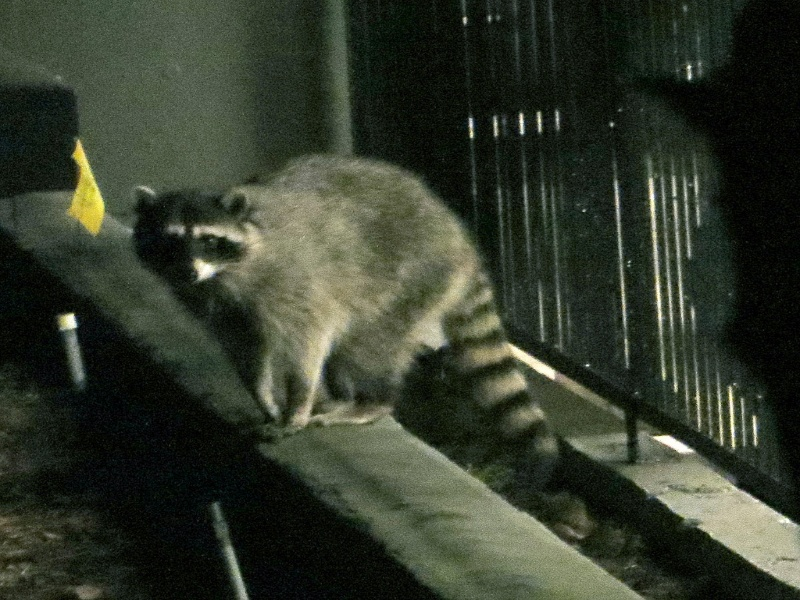raccoon: (132, 154, 575, 492)
